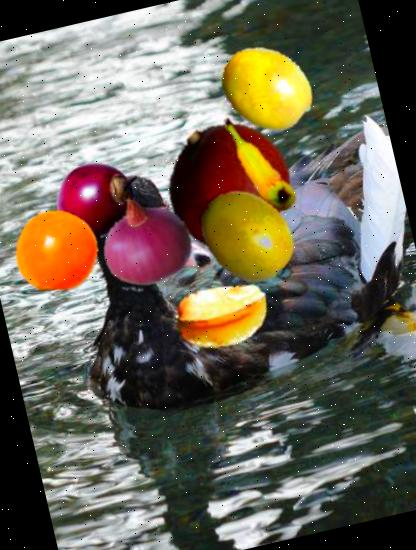Banana: (190, 97, 324, 231)
Carambula: (166, 260, 280, 373)
Maracuja: (188, 176, 307, 295), (210, 32, 323, 146)
Nectarine: (150, 107, 302, 259)
Onion: (86, 184, 208, 306)
Physalis: (6, 199, 108, 301)
Tamarillo: (47, 150, 148, 250)
